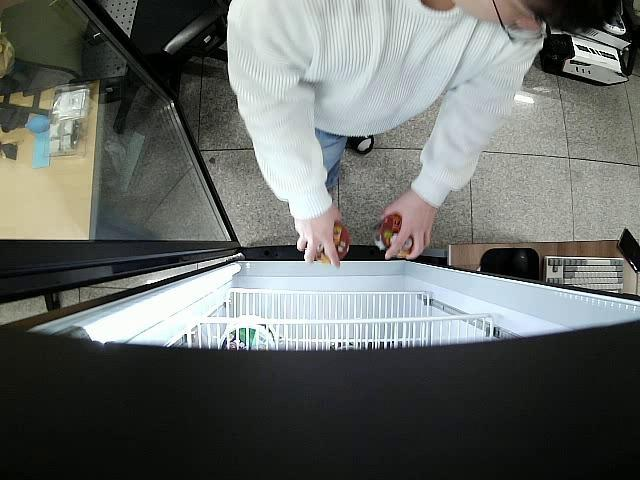06_nuguri_S: (374, 212, 418, 254), (314, 223, 352, 265)
